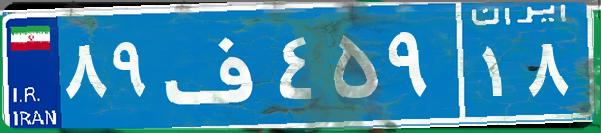1: (475, 38, 525, 113)
4: (273, 28, 330, 110)
5: (330, 28, 385, 110)
8: (57, 26, 110, 107), (525, 38, 570, 115)
9: (385, 28, 445, 110), (110, 28, 158, 105)
ف: (158, 15, 273, 115)
